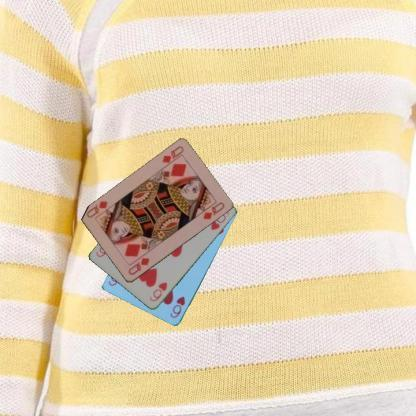6h: (146, 280, 168, 302), (168, 294, 186, 320)
Qd: (160, 144, 184, 170), (125, 255, 151, 277)
